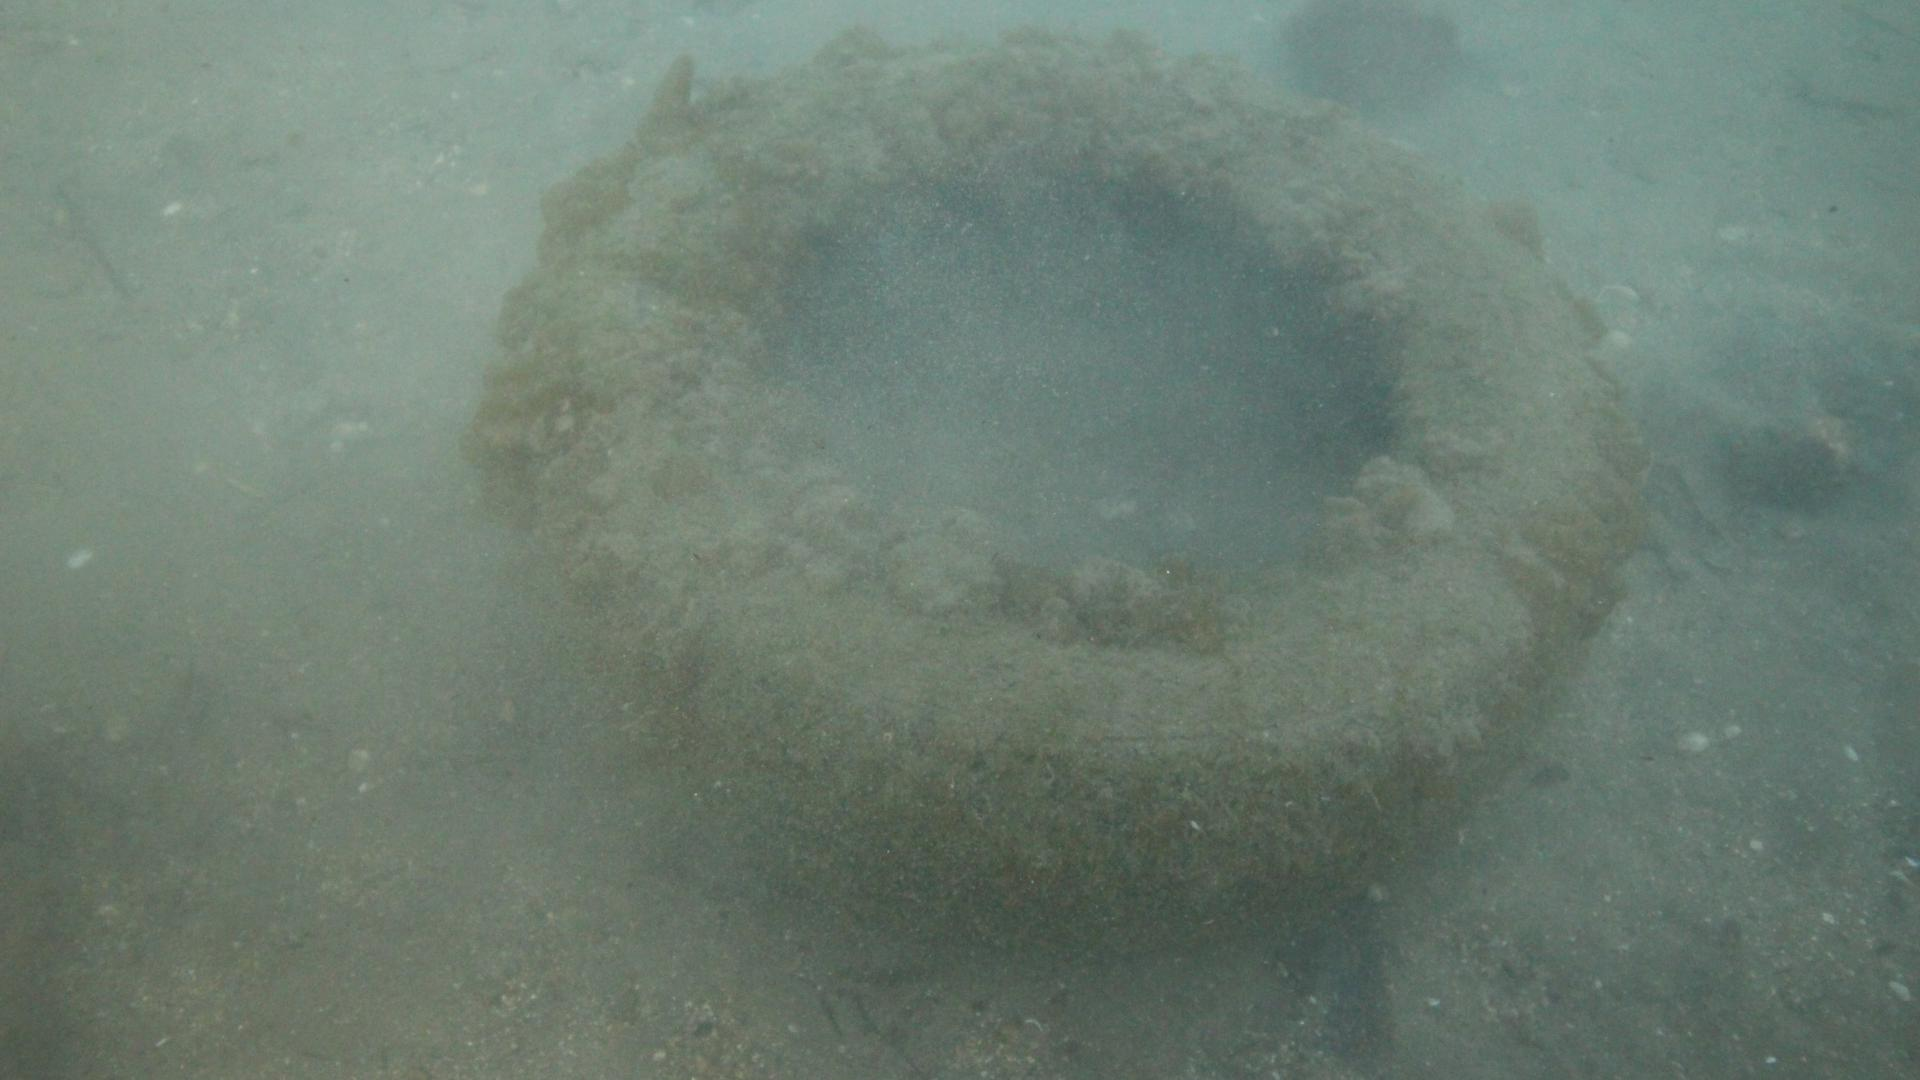tire: (516, 40, 1625, 957)
